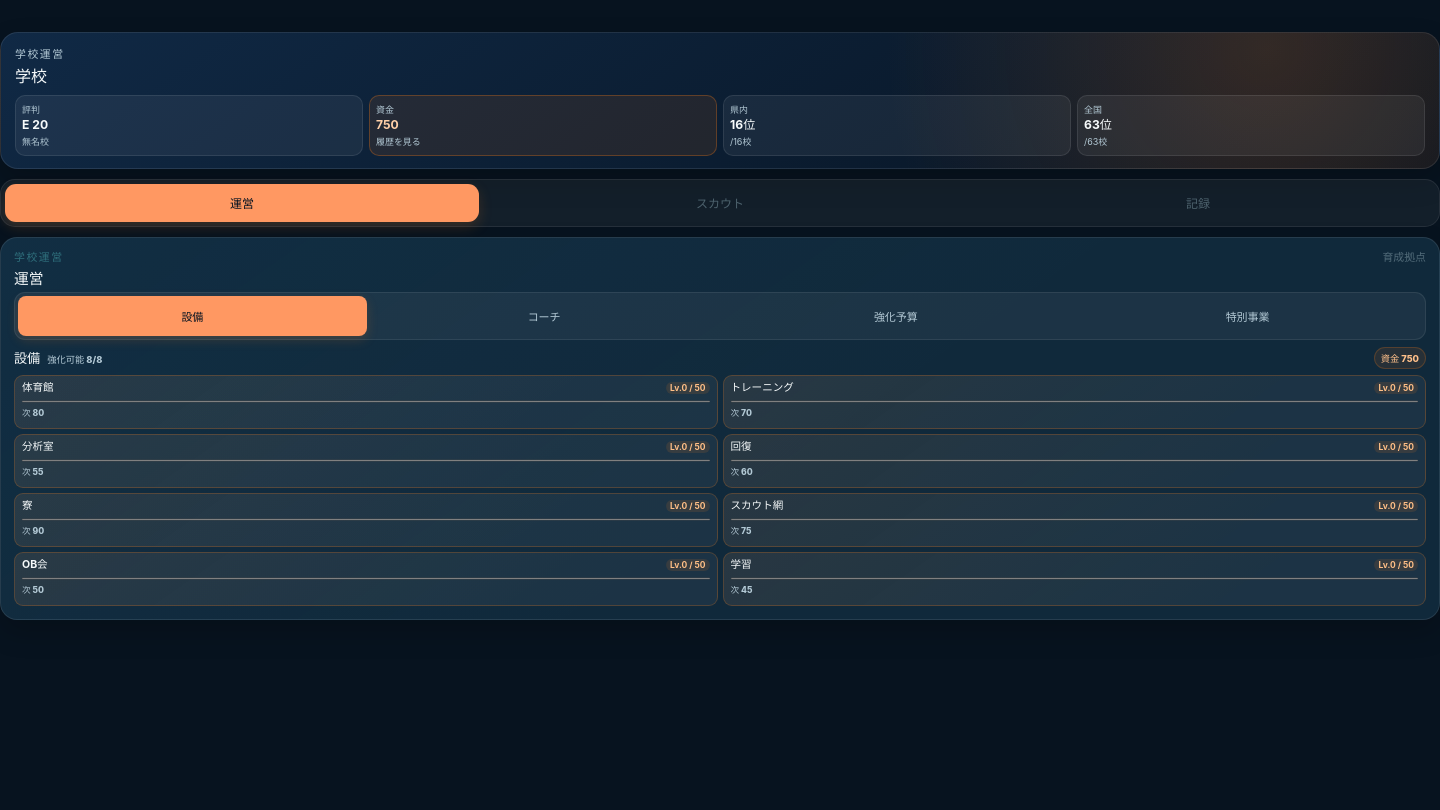
Test: school staff screen › shows the current annual contract
Click the tab "コーチ" at (544, 316), box [370,296,719,336]
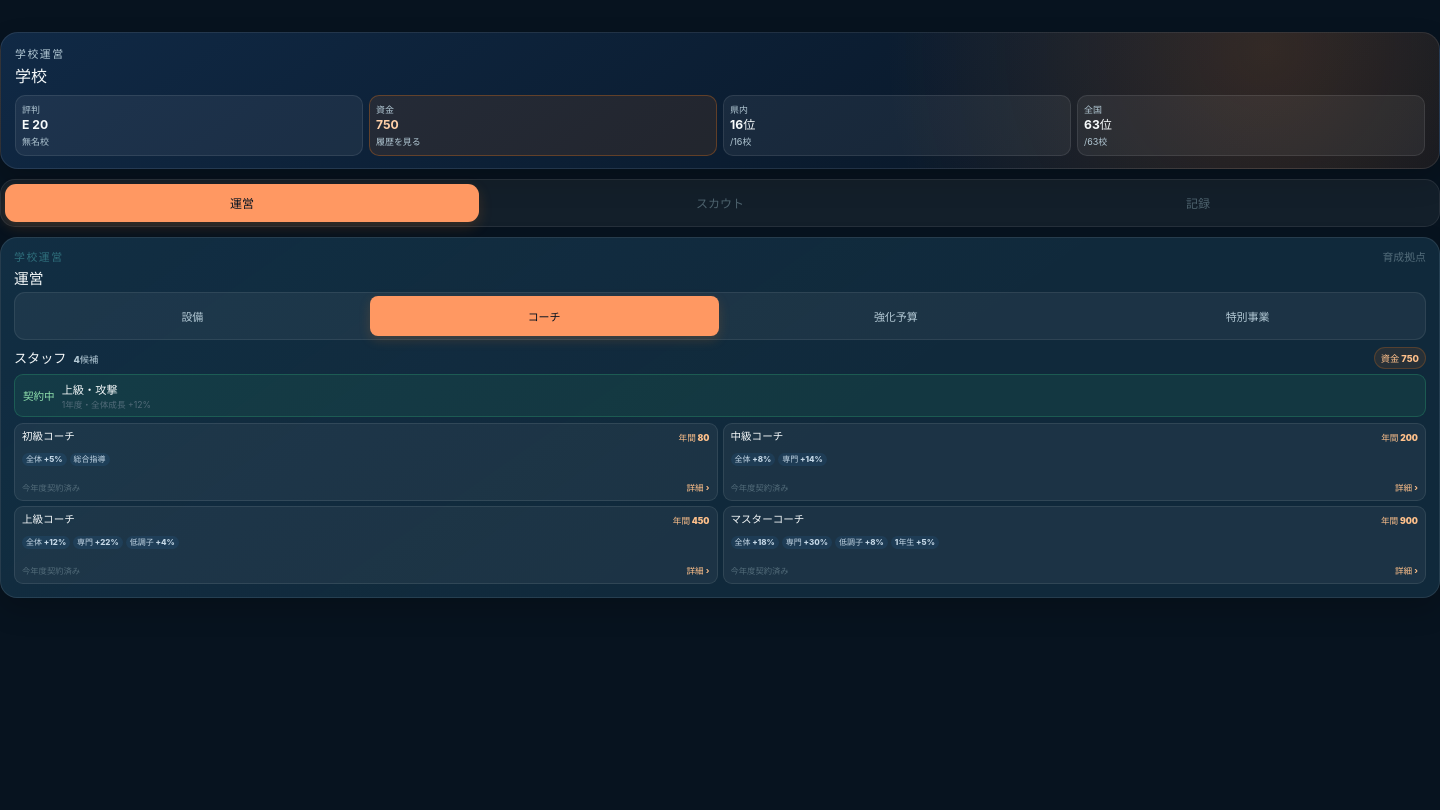
Now the text "契約中" is shown, box [23,388,55,403]
Now the text "上級・攻撃" is shown, box [62,383,118,397]
